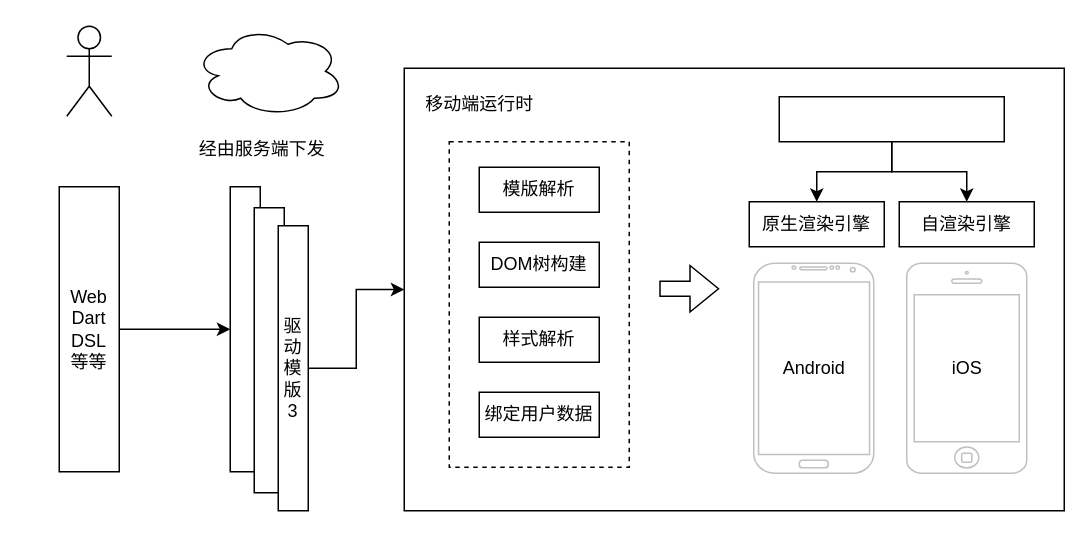
Some shapes in this 1091 by 537 pixel diagram are drawn without their labels. Here are the shapes that lost their labels. From the top down, the box of each, then its label:
(65, 25, 112, 116): 开发人员 编写UI驱动模版
(193, 25, 344, 116): 服务端
(778, 95, 1004, 142): 经过渲染引擎渲染上屏
(229, 185, 260, 472): 驱动模版1
(253, 206, 284, 493): 驱动模版2
